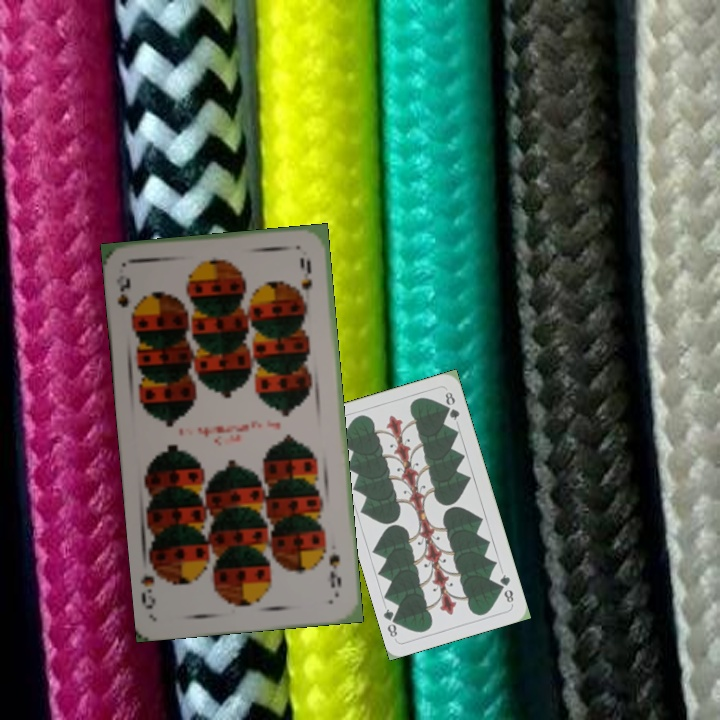G8: (496, 570, 516, 606)
S9: (113, 273, 141, 325), (325, 550, 344, 591)
